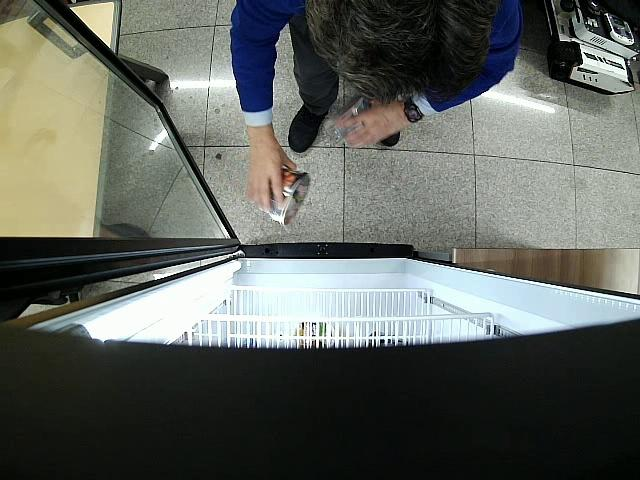00_hand: (245, 134, 298, 213), (340, 100, 404, 150)
07_buldak_L: (269, 167, 311, 227), (334, 96, 369, 133)
